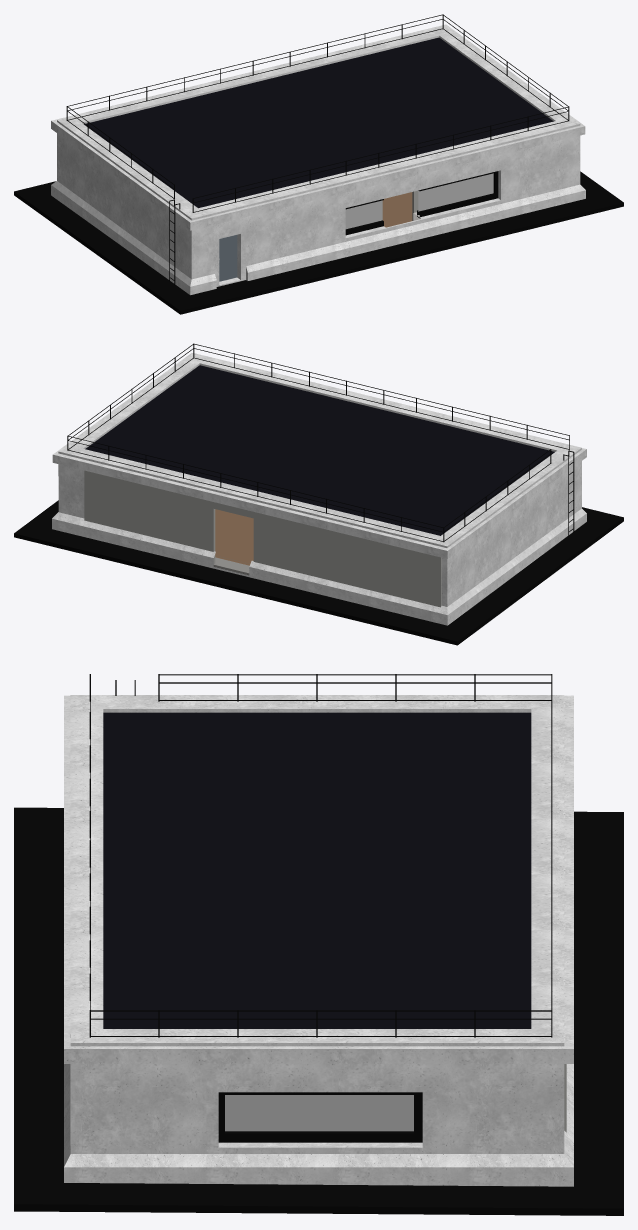
File: control-post.access-v11.lod0.glb
3 renders of one model, top to bottom at view 1: azimuth 30°, elevation 25°; view 2: azimuth 150°, elevation 25°; view 3: azimuth 270°, elevation 25°, orthographic. The views are drawn at different scales.
Parts seen in each view (by area): view 1: Inner_Floor_Floor_1_0, Inner_Floor_Outer_Walls_0, Railing_Railing_0, window_1_window_0; view 2: Inner_Floor_Floor_1_0, Inner_Floor_Outer_Walls_0, Railing_Railing_0; view 3: Inner_Floor_Floor_1_0, Inner_Floor_Outer_Walls_0, Railing_Railing_0, window_1_window_0.
Part boxes in pixels (x1,y1,x2,y2): Inner_Floor_Floor_1_0: (14,37,623,314); Inner_Floor_Outer_Walls_0: (51,24,585,295); Railing_Railing_0: (66,14,569,285); window_1_window_0: (345,171,498,235); Inner_Floor_Floor_1_0: (14,365,623,645); Inner_Floor_Outer_Walls_0: (52,353,586,625); Railing_Railing_0: (67,343,574,542); Inner_Floor_Floor_1_0: (14,712,623,1215); Inner_Floor_Outer_Walls_0: (64,695,573,1186); Railing_Railing_0: (89,674,552,1037); window_1_window_0: (218,1092,422,1142).
Size of the model in its own units: 19.9 by 4.09 by 12.93.
6 materials, 3 textured.
